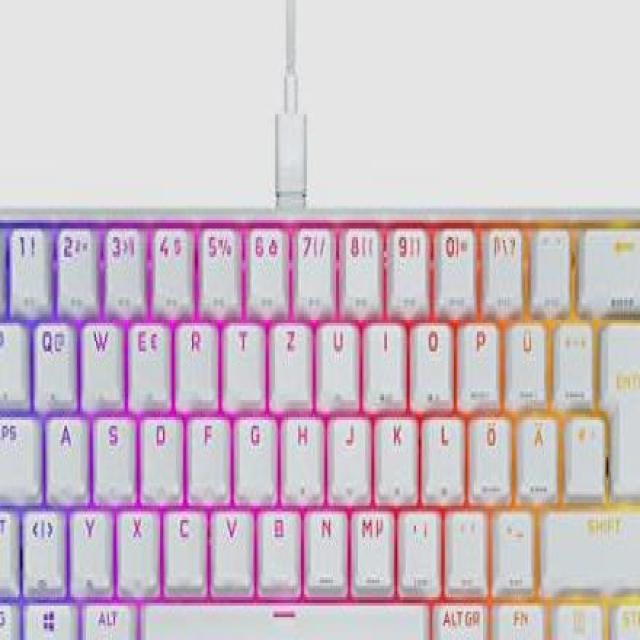0: (432, 220, 474, 311)
1: (7, 223, 48, 311)
2: (55, 229, 96, 312)
3: (102, 220, 144, 311)
4: (150, 223, 190, 311)
5: (198, 220, 238, 311)
6: (244, 220, 285, 311)
7: (292, 220, 332, 311)
8: (338, 220, 380, 311)
9: (386, 220, 428, 311)
a: (44, 409, 86, 497)
accent: (528, 223, 569, 311)
ae: (514, 409, 556, 494)
alt-left: (80, 594, 134, 640)
altgr-right: (431, 594, 487, 640)
b: (255, 503, 300, 588)
c: (162, 503, 205, 588)
caret: (0, 222, 20, 311)
comma: (394, 503, 439, 588)
d: (138, 409, 182, 497)
del: (574, 222, 640, 308)
e: (125, 314, 169, 403)
enter: (596, 314, 640, 497)
f: (185, 409, 228, 497)
g: (231, 409, 275, 497)
h: (279, 409, 323, 497)
hash: (562, 409, 604, 494)
i: (360, 314, 405, 403)
j: (326, 409, 368, 497)
k: (372, 409, 416, 497)
keyboard: (0, 203, 640, 640)
l: (419, 409, 462, 497)
less: (22, 506, 65, 591)
m: (348, 503, 393, 588)
minus: (491, 503, 533, 588)
n: (301, 503, 346, 588)
o: (407, 314, 451, 403)
oe: (467, 409, 509, 494)
p: (456, 314, 498, 400)
plus: (552, 320, 594, 406)
point: (442, 503, 486, 586)
q: (31, 314, 74, 406)
r: (172, 314, 217, 403)
s: (92, 409, 134, 497)
shift-left: (0, 506, 28, 591)
shift-lock: (0, 412, 38, 497)
shift-right: (536, 502, 640, 588)
space: (135, 594, 429, 640)
ss: (480, 223, 522, 314)
strg-left: (0, 597, 28, 640)
strg-right: (608, 597, 640, 640)
t: (220, 314, 263, 403)
tab: (0, 314, 32, 406)
u: (313, 314, 358, 403)
ue: (502, 317, 544, 400)
v: (208, 503, 252, 588)
w: (79, 314, 122, 403)
x: (115, 503, 158, 588)
y: (68, 506, 112, 591)
z: (266, 314, 310, 403)
